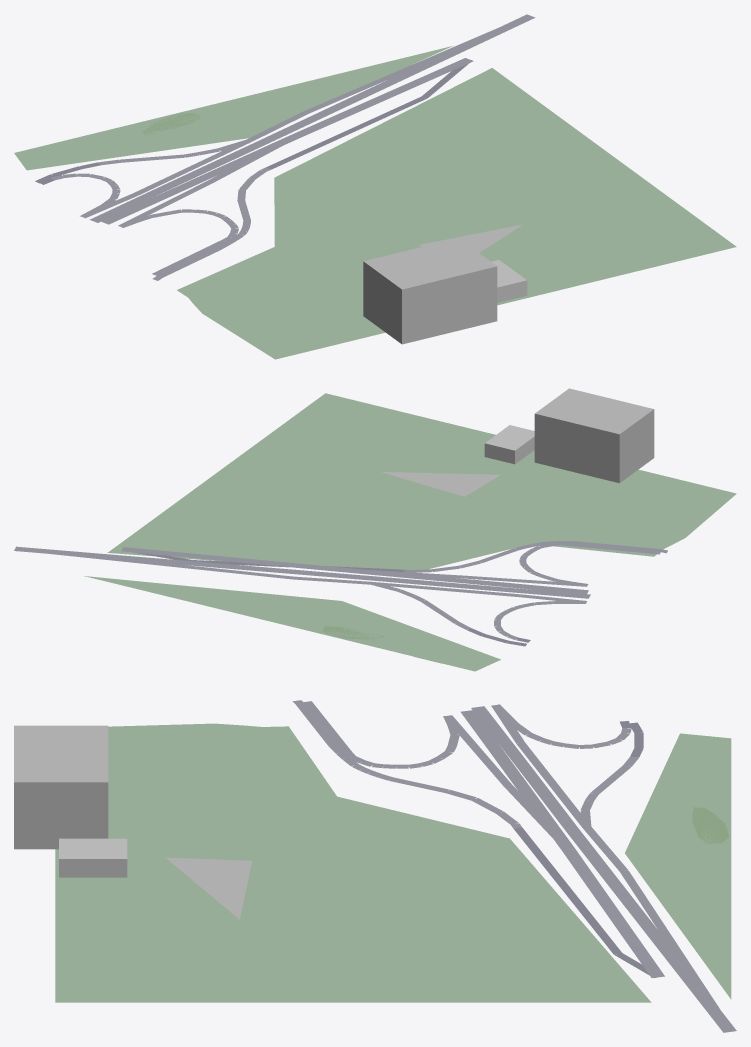
The model's file is 116_81_mid.glb.
3 views of the same model, one above another, from view 1: azimuth 30°, elevation 25°; view 2: azimuth 150°, elevation 25°; view 3: azimuth 270°, elevation 25° (orthographic). The views are drawn at different scales.
Bounding box in the file's own units: 579 × 55.97 × 535.
